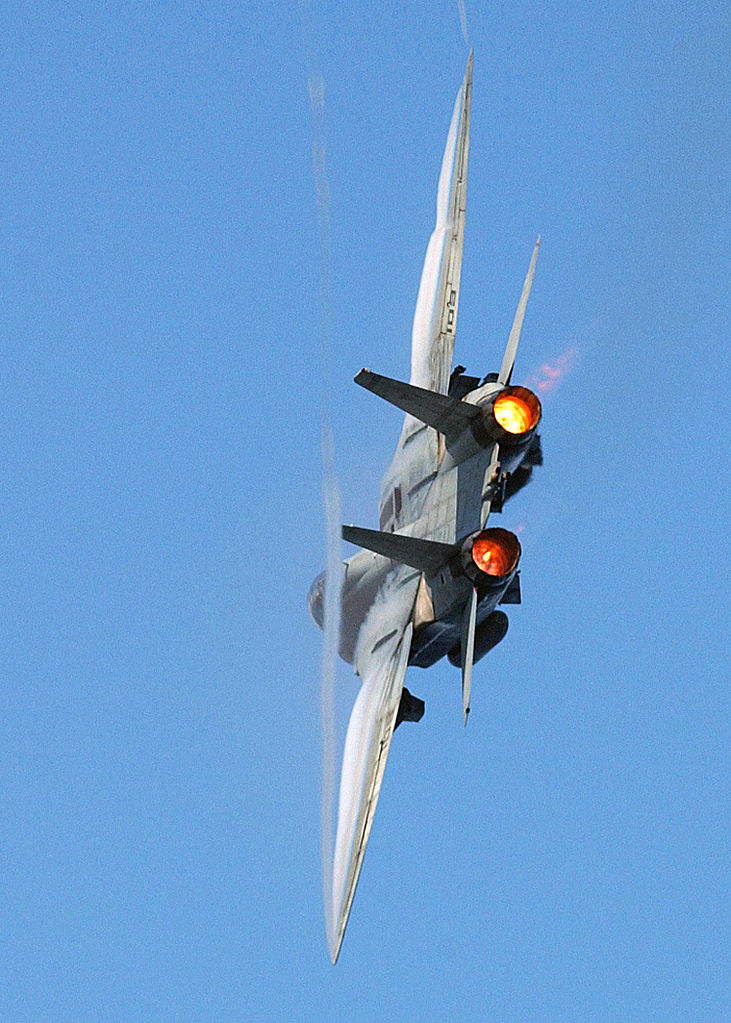F14: (307, 48, 544, 967)
